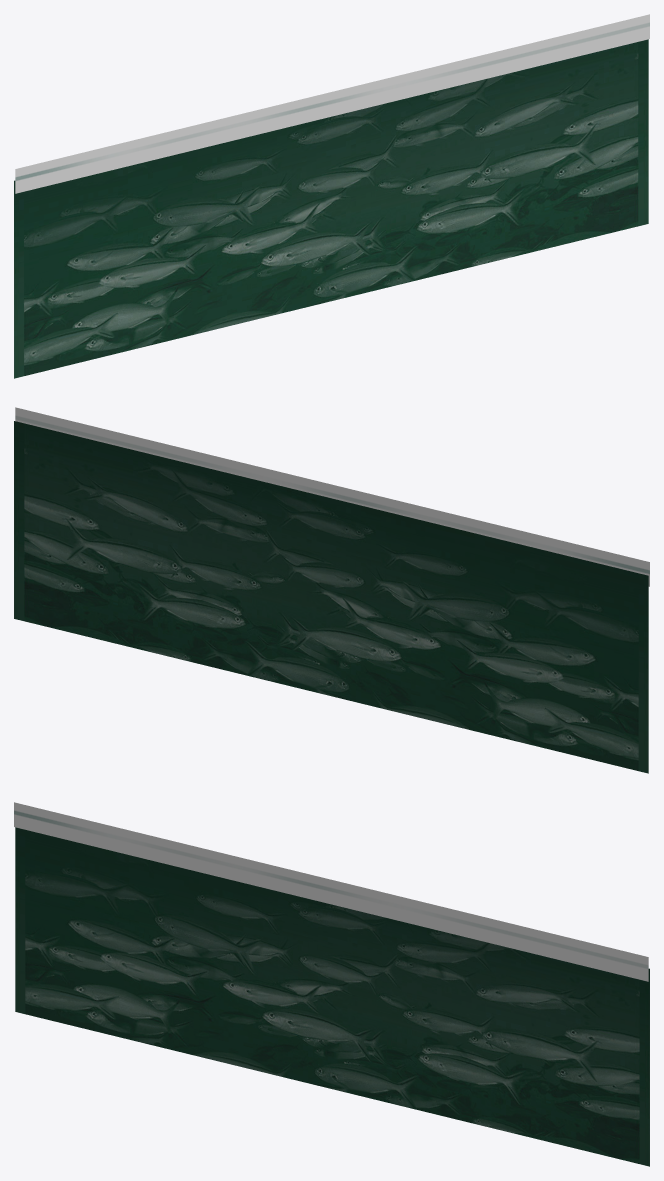
The model's file is Aquarium.fbx.
The picture shows the model from 3 angles, top to bottom: view 1: azimuth 30°, elevation 25°; view 2: azimuth 150°, elevation 25°; view 3: azimuth 330°, elevation 25°; orthographic projection.
Parts seen in each view (by area): view 1: WaterSurface_Mesh, WaterLine_Mesh; view 2: WaterSurface_Mesh, WaterLine_Mesh; view 3: WaterSurface_Mesh, WaterLine_Mesh.
Boxes of the visible parts, box(x1,y1,x2,y2) form: WaterSurface_Mesh: box(14, 39, 648, 378); WaterLine_Mesh: box(15, 14, 649, 193); WaterSurface_Mesh: box(14, 421, 648, 773); WaterLine_Mesh: box(15, 407, 649, 586); WaterSurface_Mesh: box(15, 827, 649, 1166); WaterLine_Mesh: box(14, 802, 648, 981).
Bounding box in the file's own units: 73.98 × 23.45 × 0.2644.
2 materials, 2 textured.
